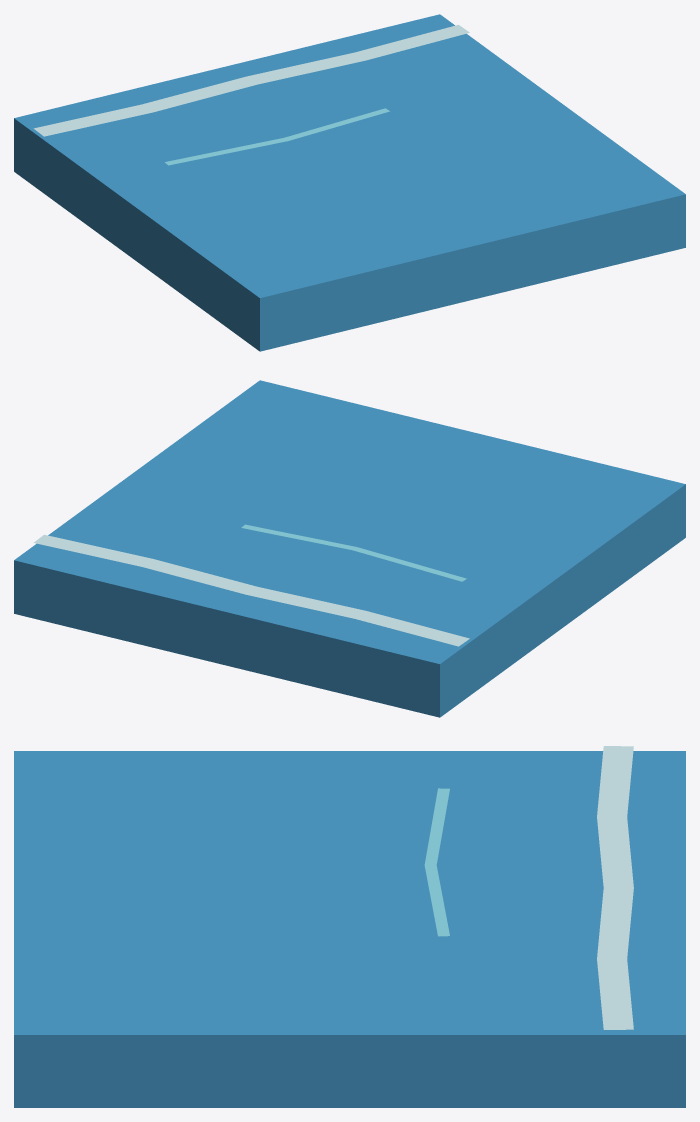
File: water_edge_straight_01.glb
3 renders of one model, top to bottom at view 1: azimuth 30°, elevation 25°; view 2: azimuth 150°, elevation 25°; view 3: azimuth 270°, elevation 25°, orthographic. The views are drawn at different scales.
Parts seen in each view (by area): view 1: water_edge_straight_01; view 2: water_edge_straight_01; view 3: water_edge_straight_01.
Boxes of the visible parts, box(x1,y1,x2,y2) form: water_edge_straight_01: box(14, 14, 685, 351); water_edge_straight_01: box(14, 380, 685, 717); water_edge_straight_01: box(14, 746, 685, 1107).
Bounding box in the file's own units: 1 × 0.128 × 1.
